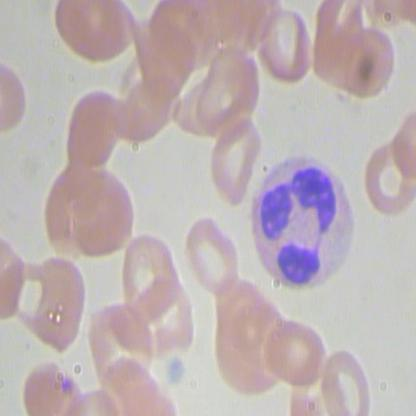Platelets: (162, 352, 187, 387)
RBC: (64, 170, 137, 259), (85, 300, 155, 387), (53, 1, 139, 68), (30, 256, 87, 354), (62, 86, 124, 175), (205, 113, 263, 206), (266, 309, 328, 388), (183, 213, 242, 294), (257, 3, 316, 83), (137, 278, 196, 356), (122, 231, 177, 312), (120, 75, 179, 148), (318, 342, 377, 413), (363, 139, 415, 219), (341, 23, 393, 103)
WBC: (243, 157, 357, 289)
